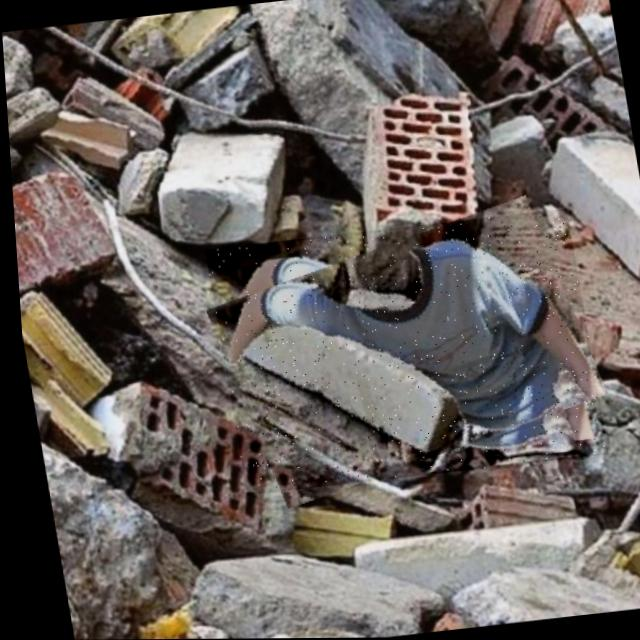Person in Rubble: (199, 209, 604, 495)
